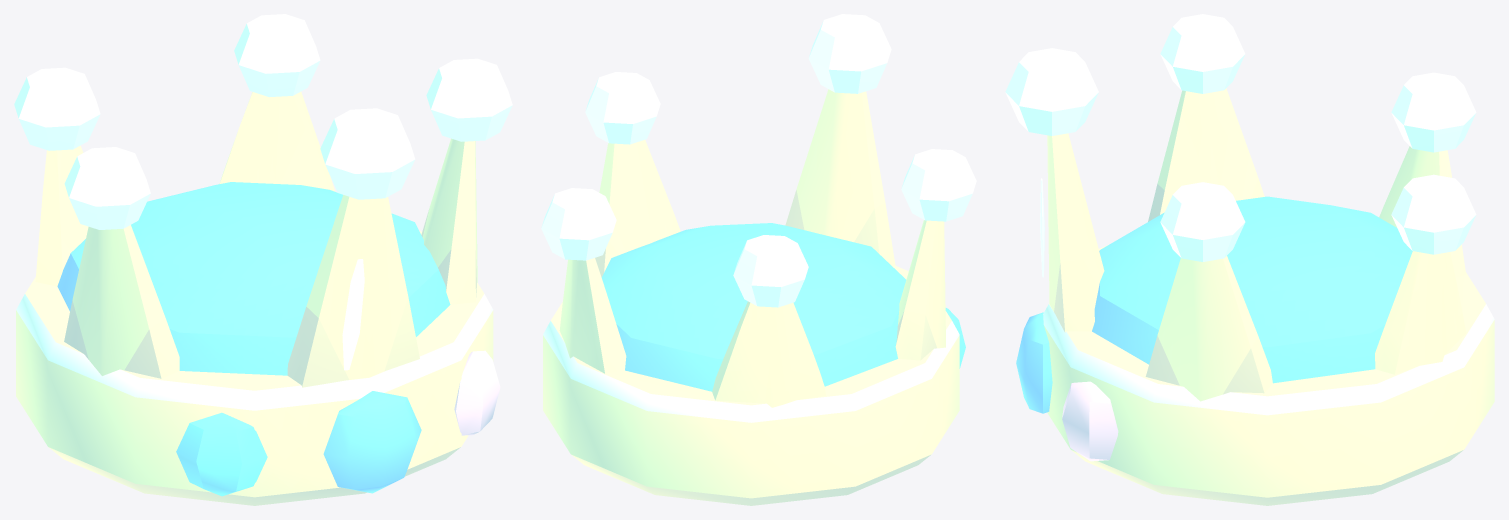
The model's file is props__Crown.glb.
3 renders of one model, left to right at view 1: azimuth 30°, elevation 25°; view 2: azimuth 150°, elevation 25°; view 3: azimuth 270°, elevation 25°, orthographic. The views are drawn at different scales.
Visible parts, largest first — view 1: Crown; view 2: Crown; view 3: Crown.
Part boxes in pixels (<box>): Crown: <box>14,14,512,505</box>; Crown: <box>541,14,976,505</box>; Crown: <box>1005,14,1494,505</box>.
Bounding box in the file's own units: 1.6 × 1.34 × 1.62.
